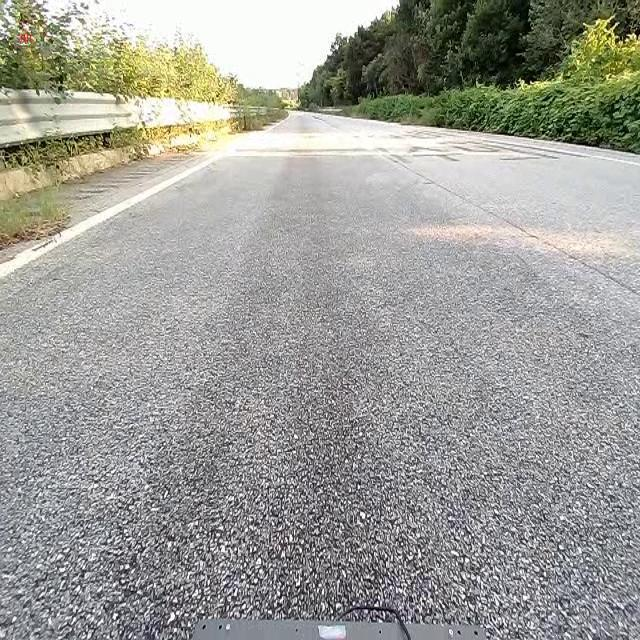Lane: (0, 143, 230, 278), (0, 152, 227, 279)
